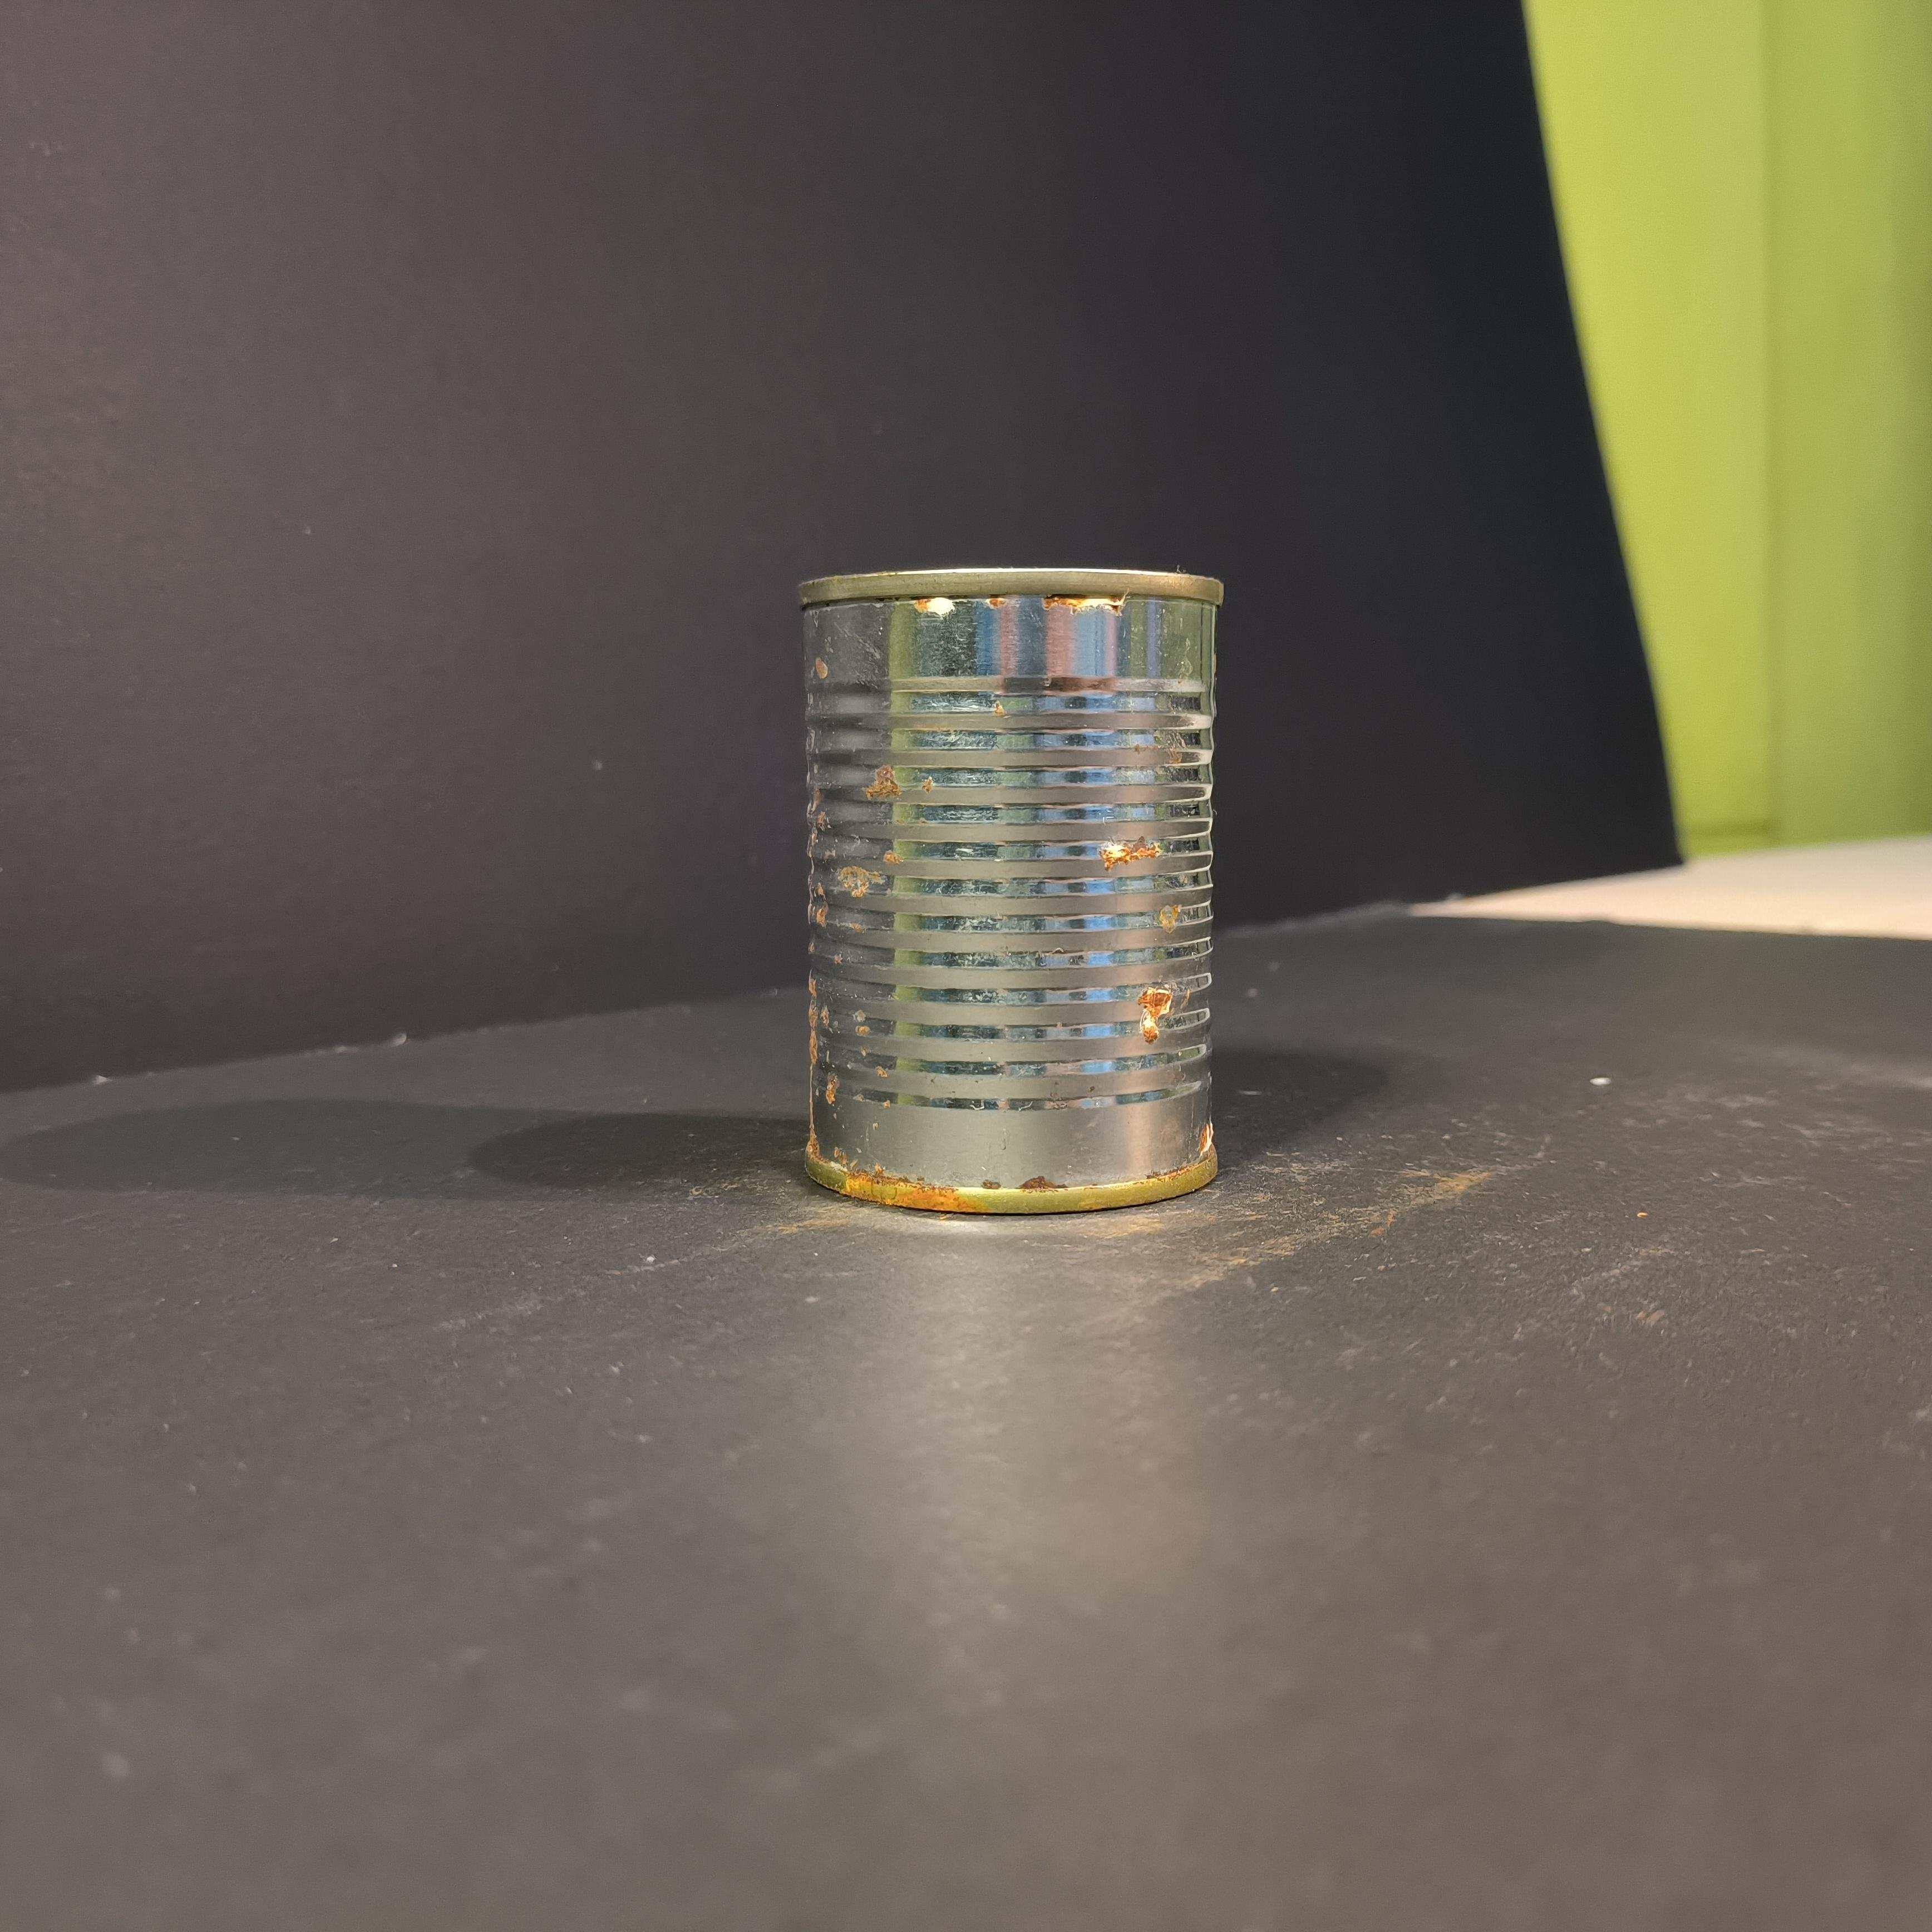Rusted: (784, 548, 1258, 1219)
